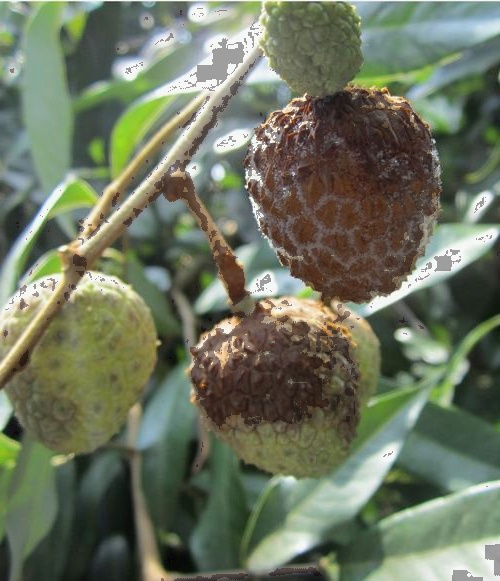Anthracnose: (243, 109, 432, 290), (211, 310, 372, 412), (0, 345, 83, 446)
